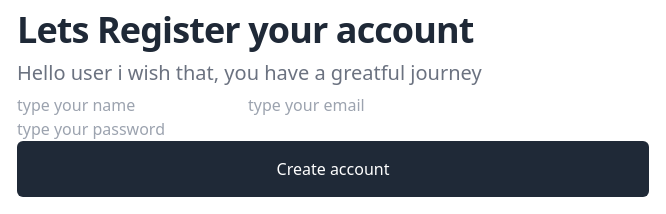
Test: Signup form › Should show loading when form is submitting
This screenshot has width=666, height=214.
In the field with test id "input-component" showing "type your name": (132, 105) [17, 93, 248, 117], type "novo"
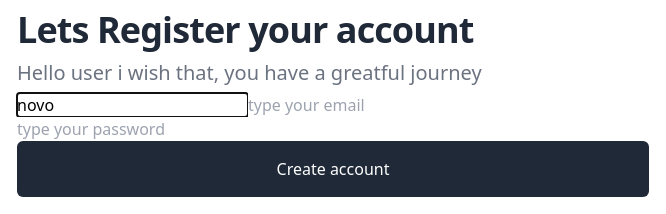
In the field with test id "input-component" showing "type your email": (364, 105) [248, 93, 479, 117], type "novo@mail.com"
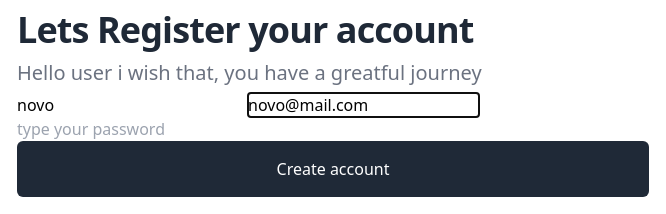
In the password field with test id "input-component" showing "type your password": (132, 129) [17, 117, 248, 141], type "1234564"
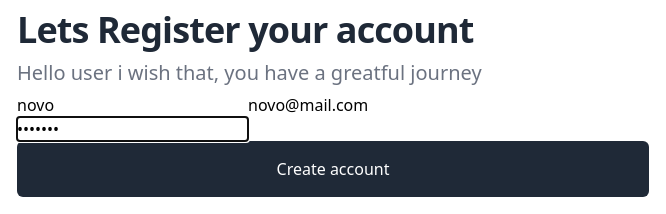
Click the button: (333, 169) [17, 141, 649, 197]
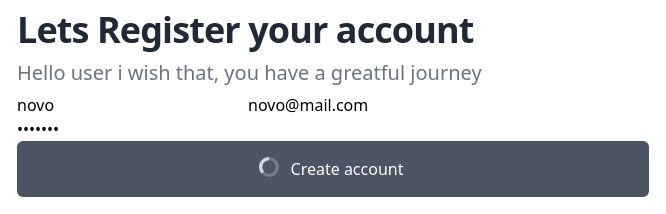
Expected: the element with test id "loading" is shown, [258, 157, 278, 177]
